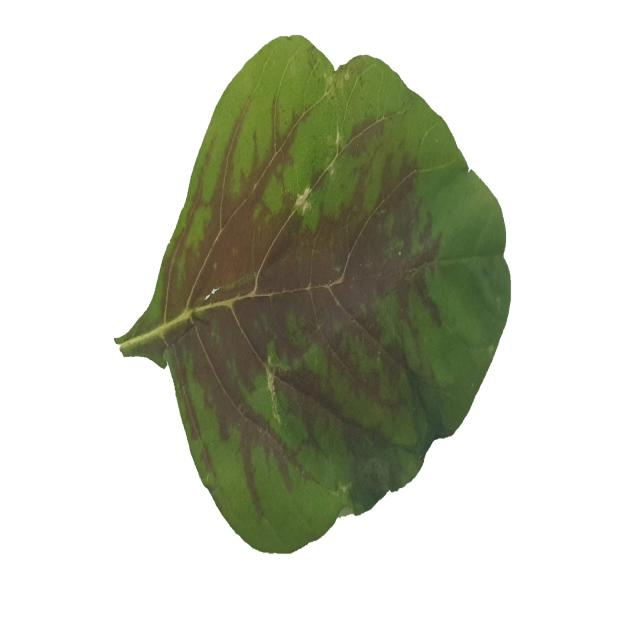Medicinal-Arive Dantu: (112, 36, 512, 554)
